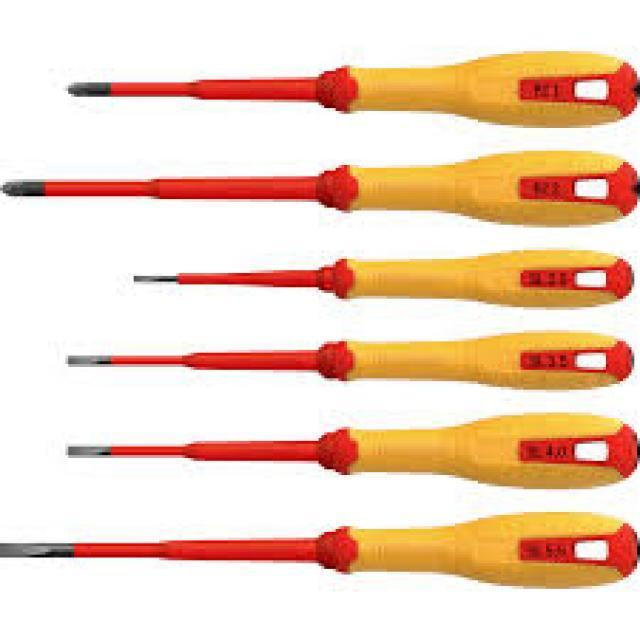screwdriver: (0, 509, 640, 592), (0, 149, 640, 226), (57, 48, 640, 131), (59, 408, 640, 490), (62, 326, 640, 395), (131, 242, 640, 316)
